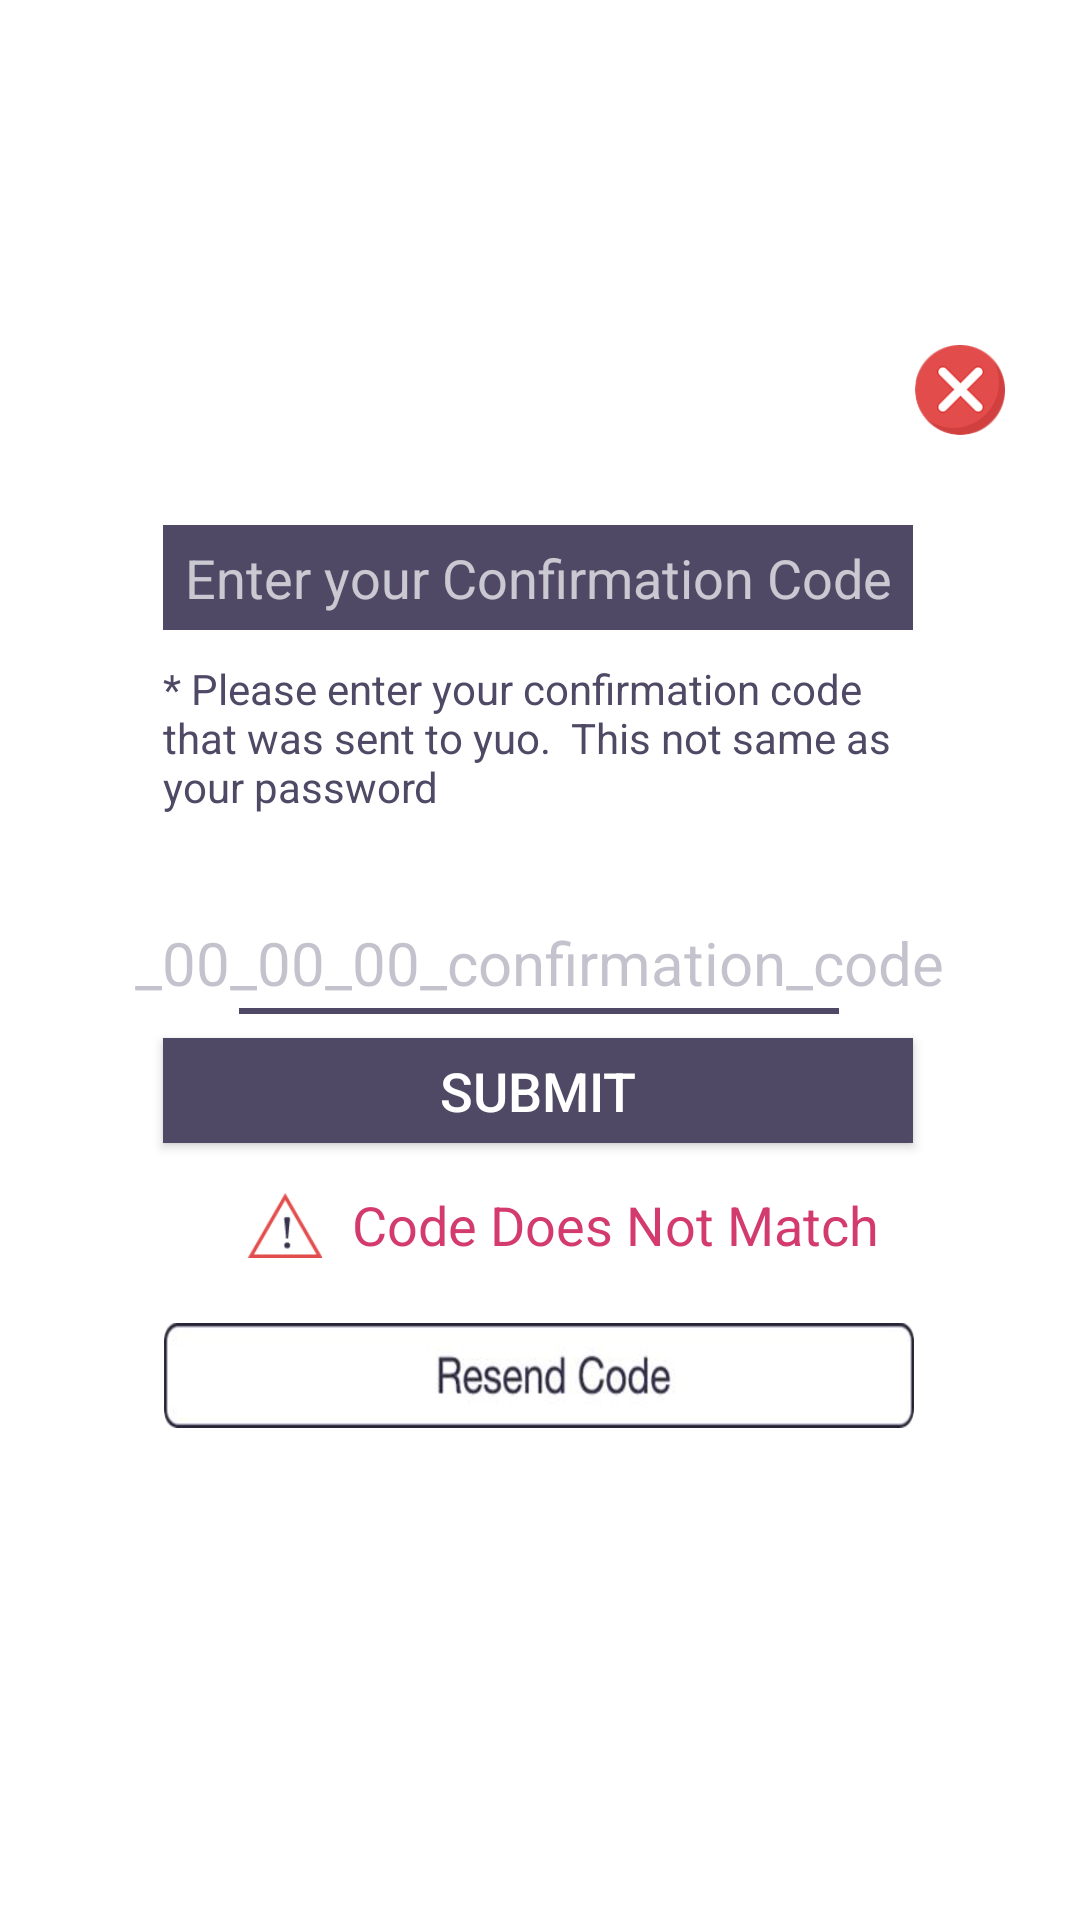

Point at icon controls on the screen. Image size 1080×1920, points as (x,y).
crossicon: (960,390)
